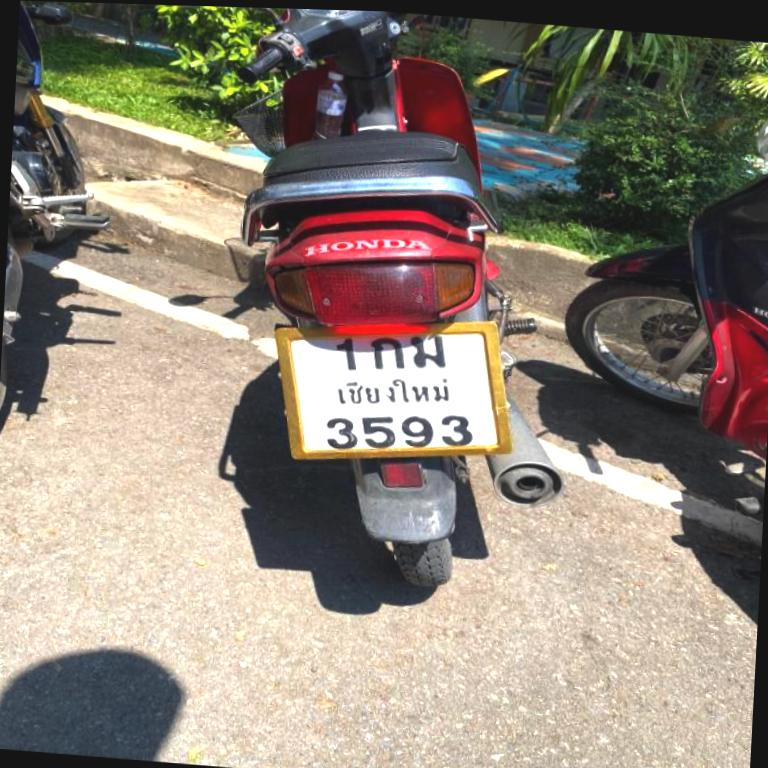license plate: (277, 322, 509, 457)
